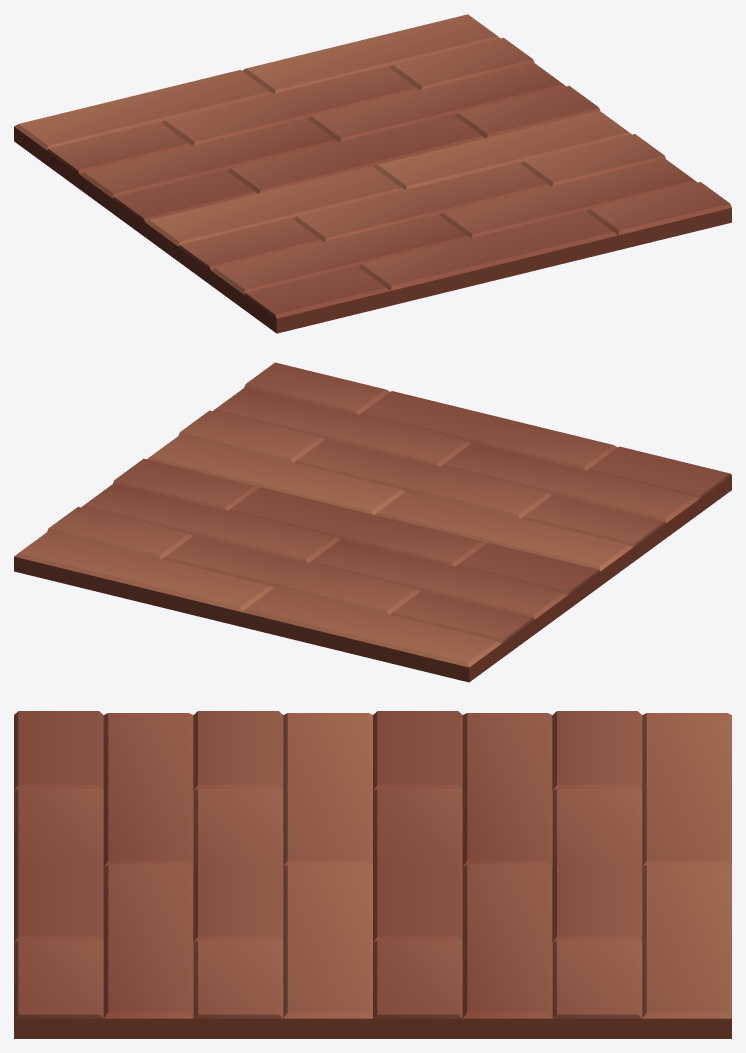
The model's file is floor_wood_large.obj.
3 renders of one model, top to bottom at view 1: azimuth 30°, elevation 25°; view 2: azimuth 150°, elevation 25°; view 3: azimuth 270°, elevation 25°, orthographic. The views are drawn at different scales.
Parts seen in each view (by area): view 1: floor_wood_large; view 2: floor_wood_large; view 3: floor_wood_large.
Part boxes in pixels (x1,y1,x2,y2): floor_wood_large: (14,14,731,333); floor_wood_large: (14,362,731,682); floor_wood_large: (14,711,731,1038).
Bounding box in the file's own units: 4 × 0.15 × 4.
Materials: 1 (1 with a texture image).
